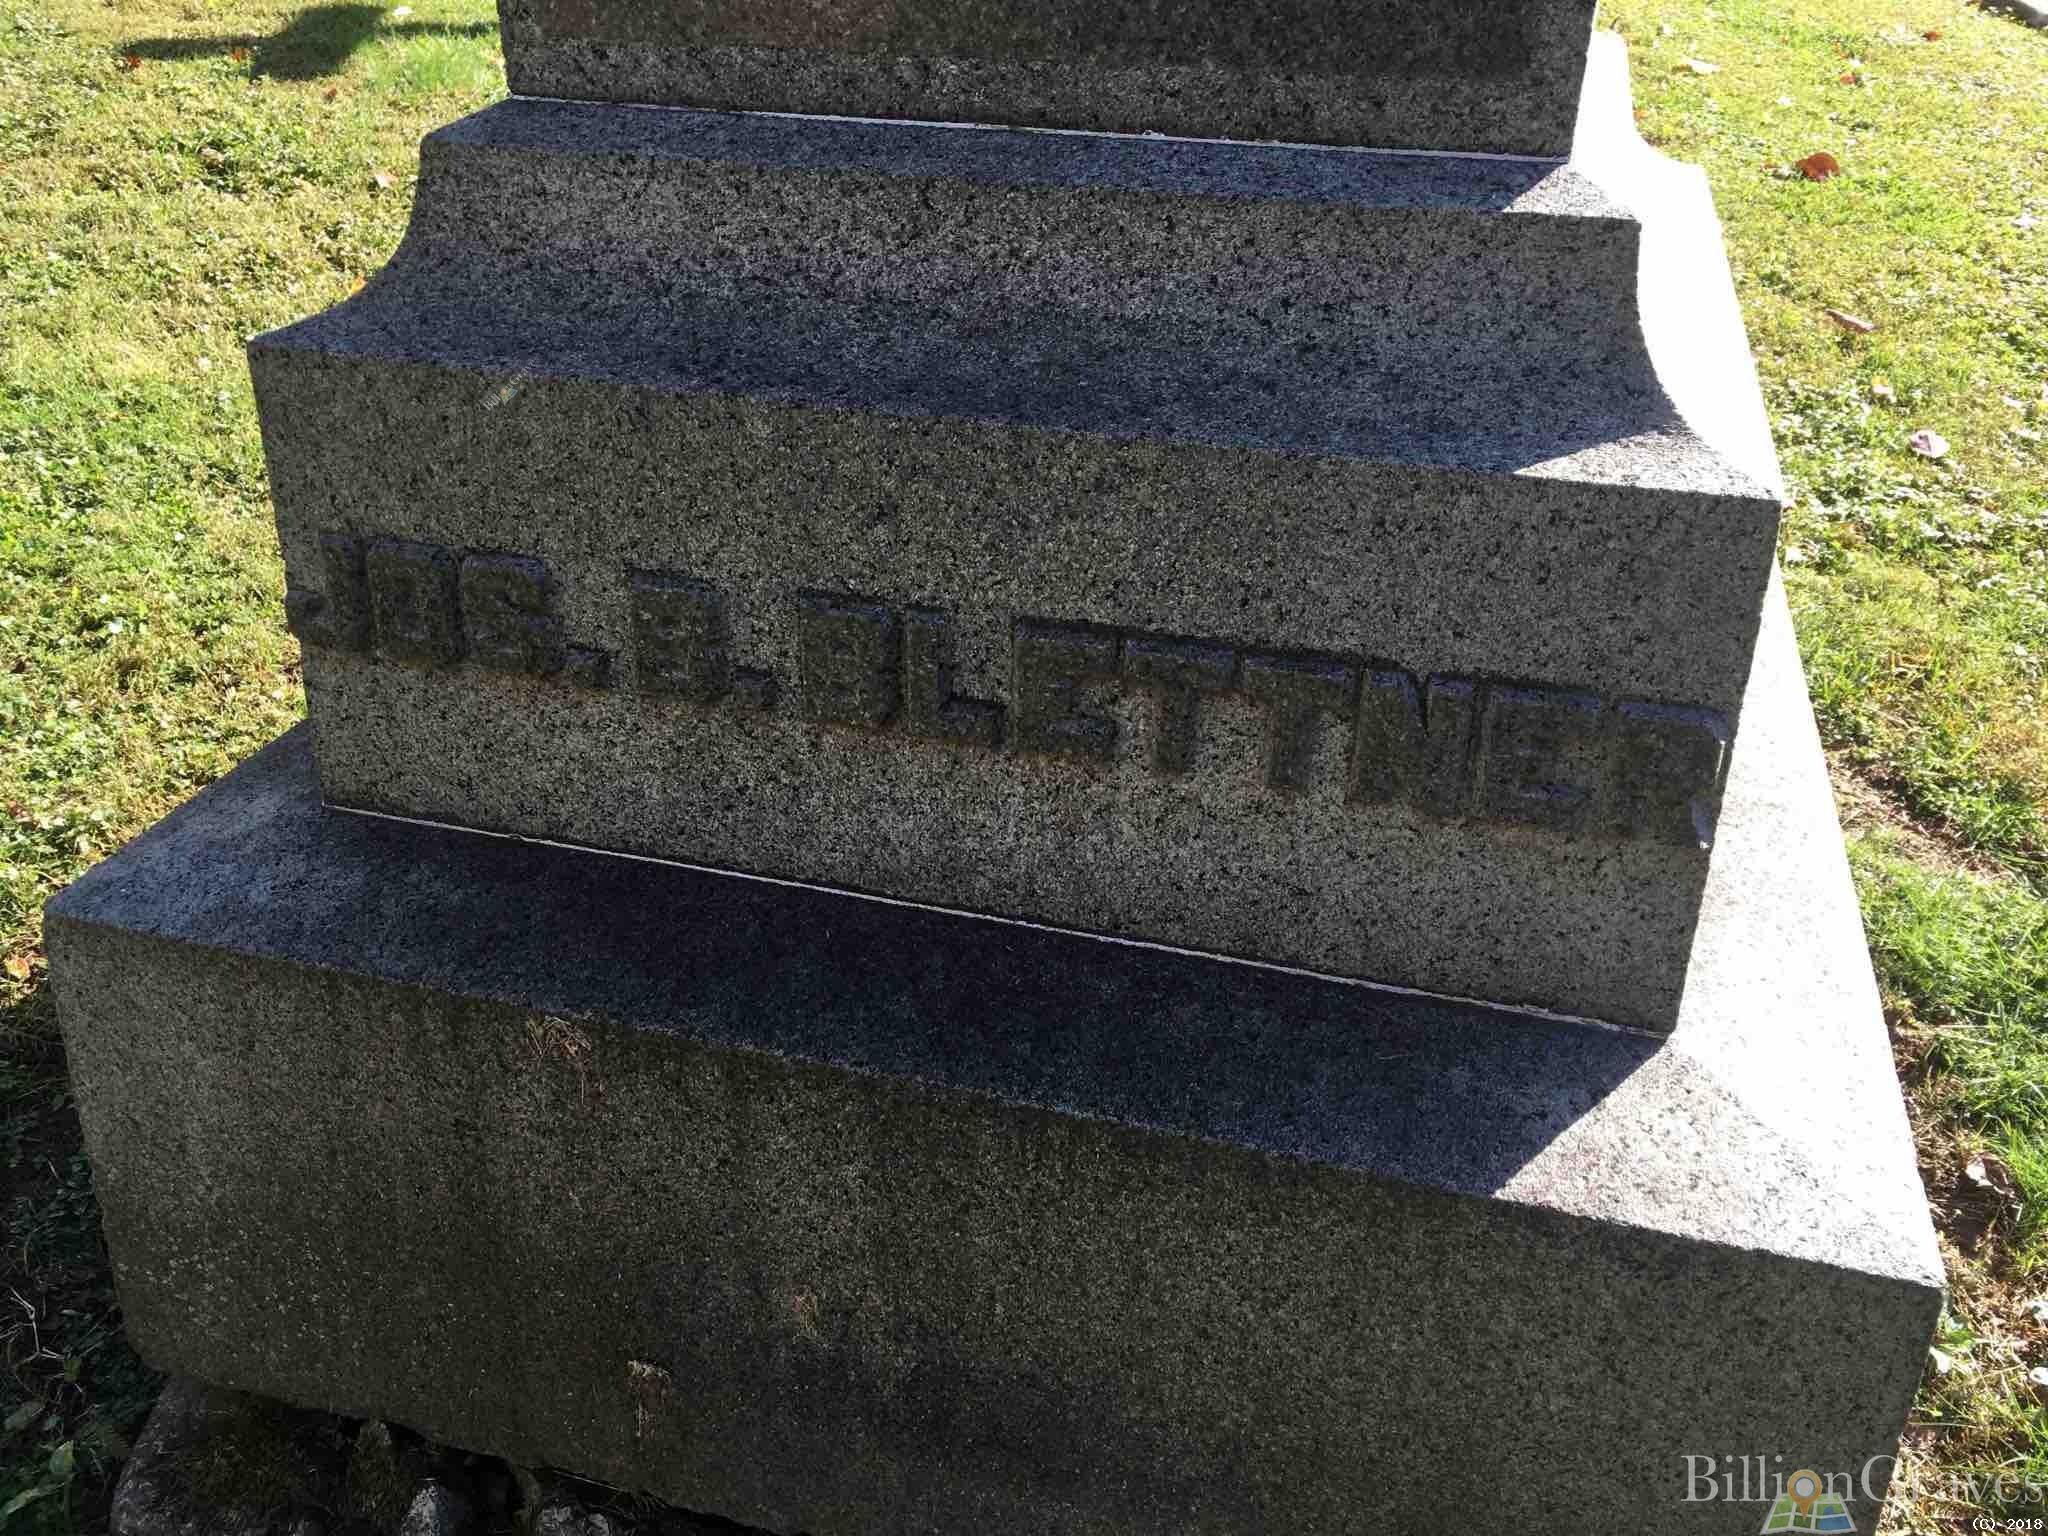obelisk: (39, 0, 1945, 1533)
